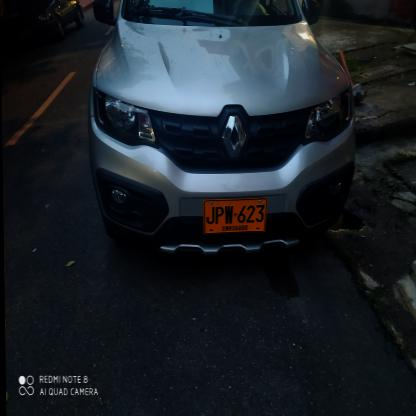placa: (198, 198, 267, 236)
